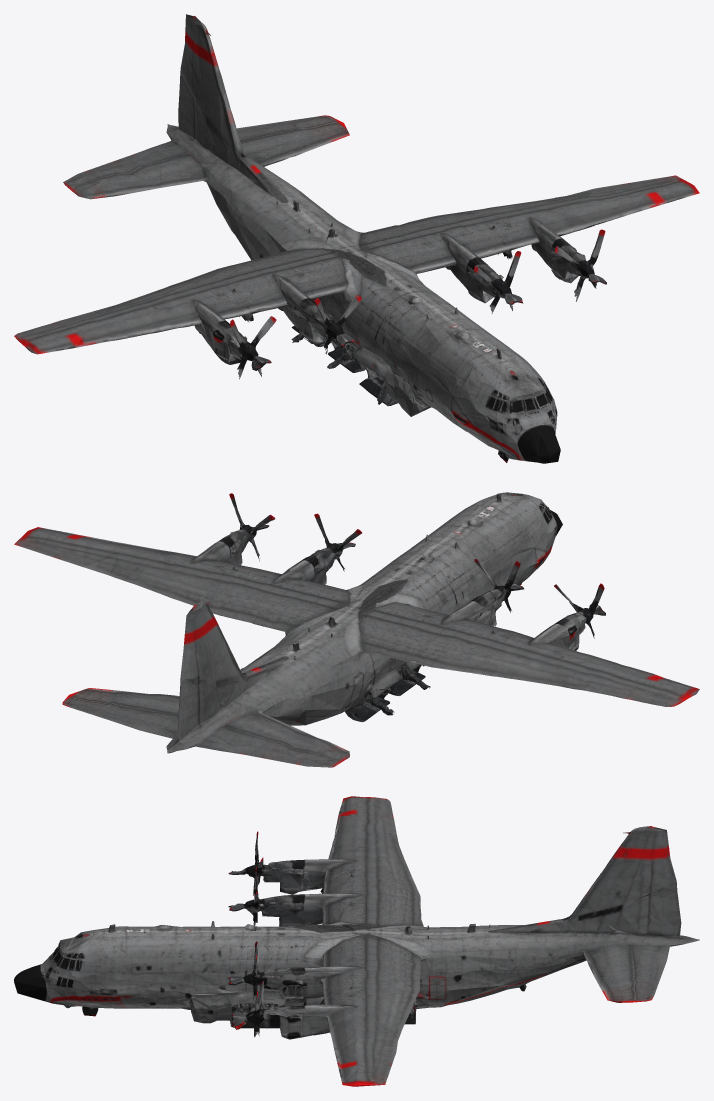
3 renders of one model, top to bottom at view 1: azimuth 30°, elevation 25°; view 2: azimuth 150°, elevation 25°; view 3: azimuth 270°, elevation 25°, orthographic. The views are drawn at different scales.
Bounding box in the file's own units: 1.88 × 0.5715 × 1.89.
Materials: 1 (1 with a texture image).
